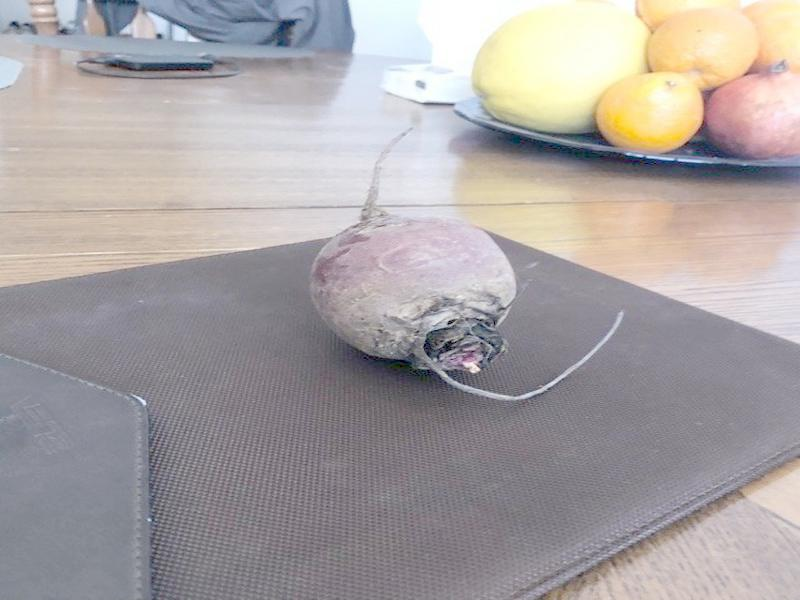Beet: (309, 126, 624, 400)
